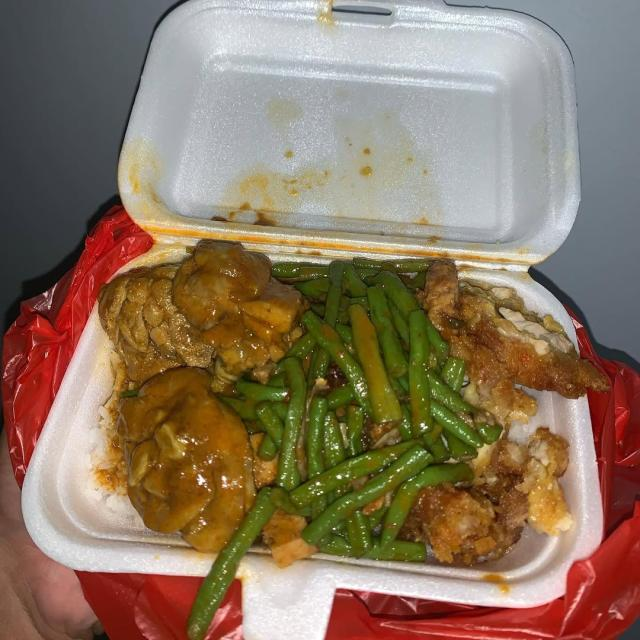Chicken: (98, 241, 309, 553), (418, 261, 609, 433), (396, 428, 571, 565)
Green veg: (188, 258, 501, 639)
Rice: (91, 408, 146, 530), (508, 400, 552, 444)
